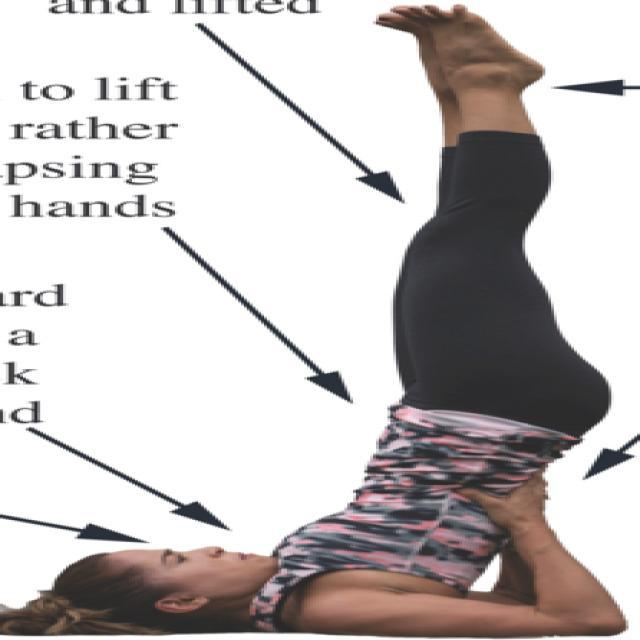yoga-pose shoulderstand: (75, 9, 620, 640)
